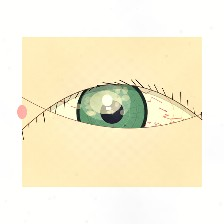corneal_ulcer: (80, 82, 132, 123)
